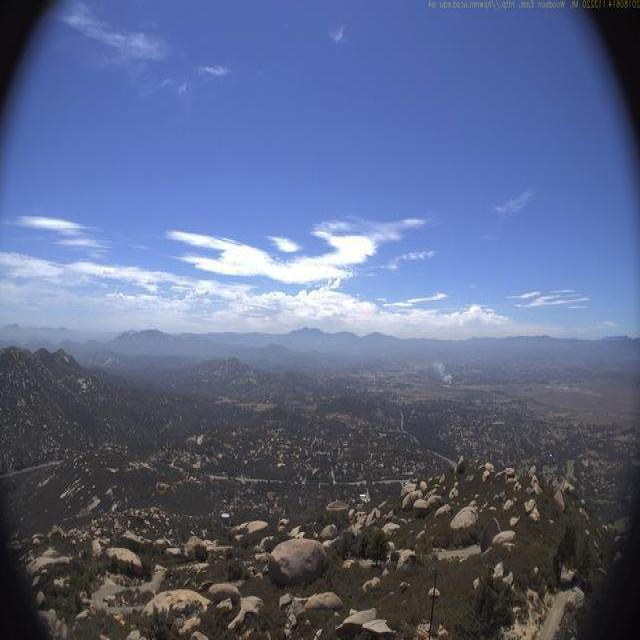Smoke: (422, 356, 456, 380)
